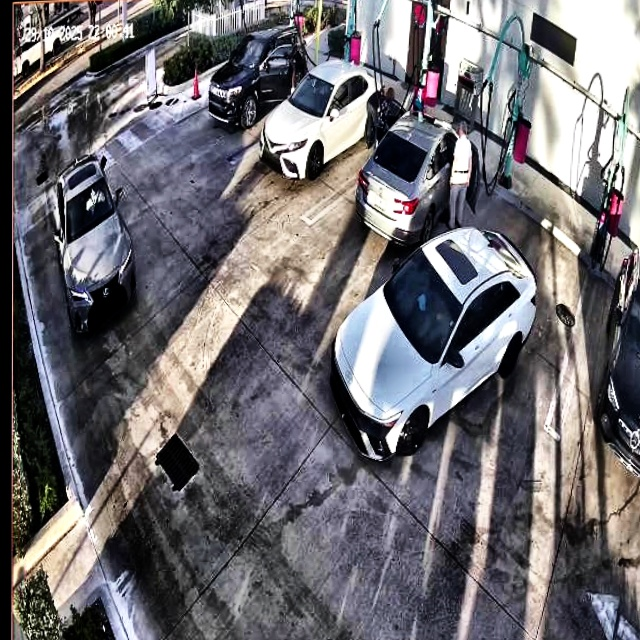Car: (330, 233, 538, 466), (353, 97, 481, 241), (259, 61, 385, 180)
